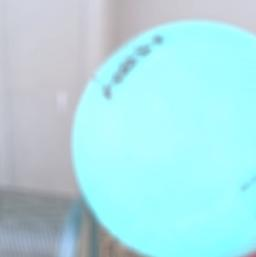algae: (71, 17, 256, 257)
